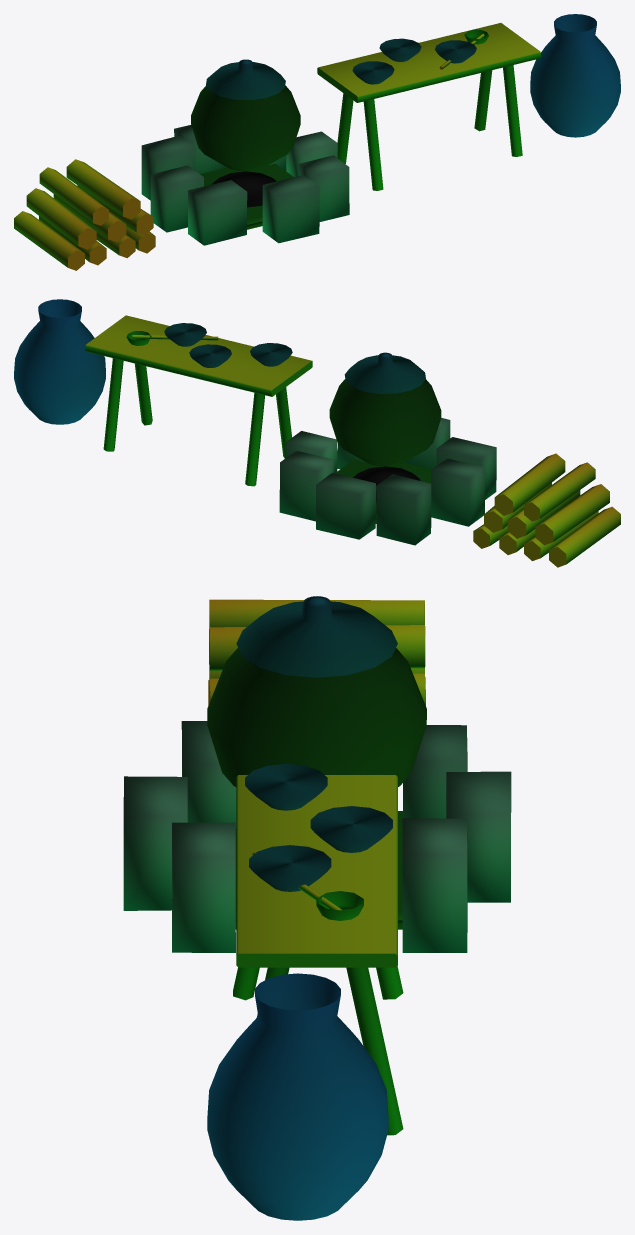
Rendered from inn_hearth.glb.
The picture shows the model from 3 angles, top to bottom: view 1: azimuth 30°, elevation 25°; view 2: azimuth 150°, elevation 25°; view 3: azimuth 270°, elevation 25°; orthographic projection. The views are drawn at different scales.
Visible parts, largest first — view 1: inn_hearth; view 2: inn_hearth; view 3: inn_hearth.
Boxes of the visible parts, x1,y1,x2,y2 form: inn_hearth: (14, 14, 620, 270); inn_hearth: (14, 299, 620, 567); inn_hearth: (123, 596, 511, 1220).
Size of what is drawn, in the model's own units: 3.42 by 0.832 by 1.01.
